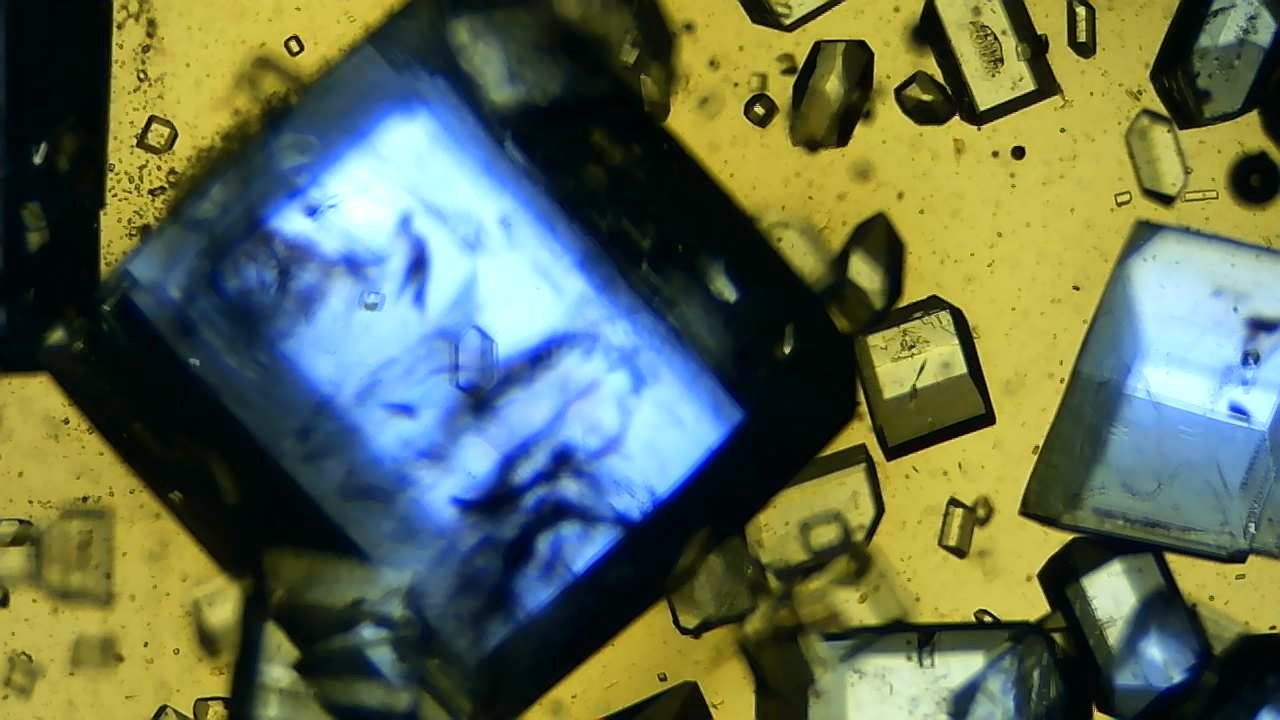crystal: (32, 2, 858, 720), (1017, 218, 1280, 564), (1034, 533, 1214, 720), (852, 295, 998, 462), (786, 38, 877, 152), (1123, 108, 1191, 214), (892, 68, 961, 129), (934, 495, 980, 561), (134, 112, 180, 158), (1064, 1, 1098, 60), (742, 90, 781, 130), (1178, 189, 1222, 205), (282, 31, 305, 60), (1113, 188, 1134, 210)
